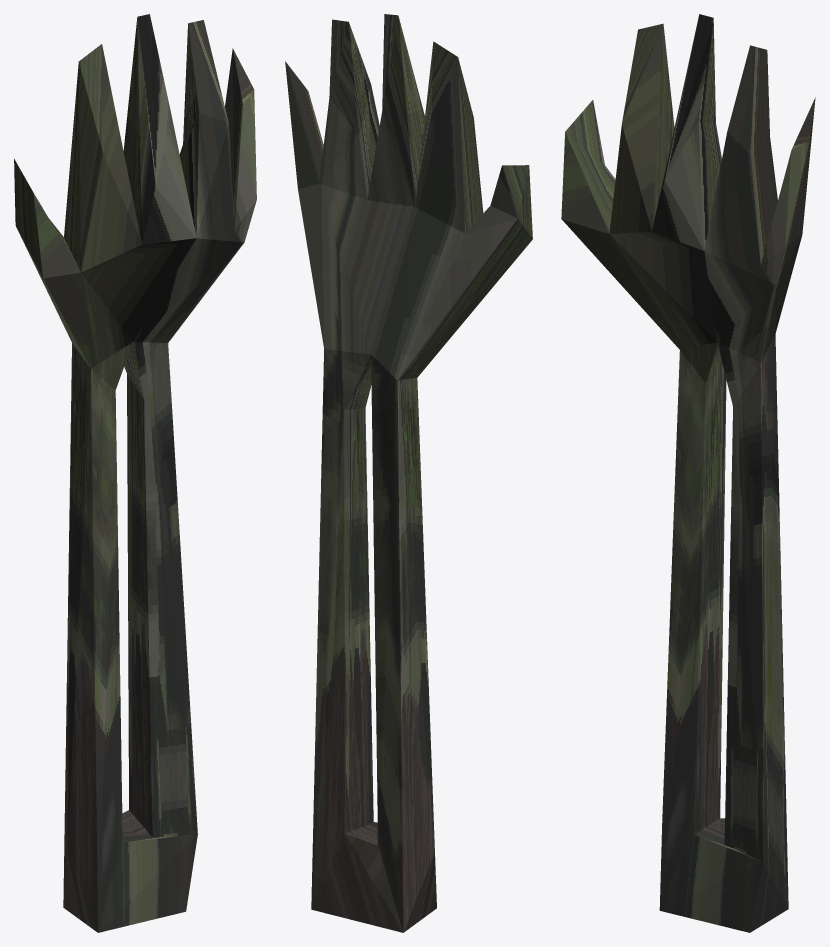
The model's file is item_halloween_bone_hand.glb.
3 views of the same model, side by side, from view 1: azimuth 30°, elevation 25°; view 2: azimuth 150°, elevation 25°; view 3: azimuth 330°, elevation 25° (orthographic). The views are drawn at different scales.
Visible parts, largest first — view 1: bone_hand; view 2: bone_hand; view 3: bone_hand.
Part boxes in pixels (x1,y1,x2,y2): bone_hand: (14, 14, 256, 932); bone_hand: (285, 14, 532, 932); bone_hand: (561, 14, 815, 932).
Bounding box in the file's own units: 0.2172 × 0.7998 × 0.0983.
Materials: 1 (1 with a texture image).
